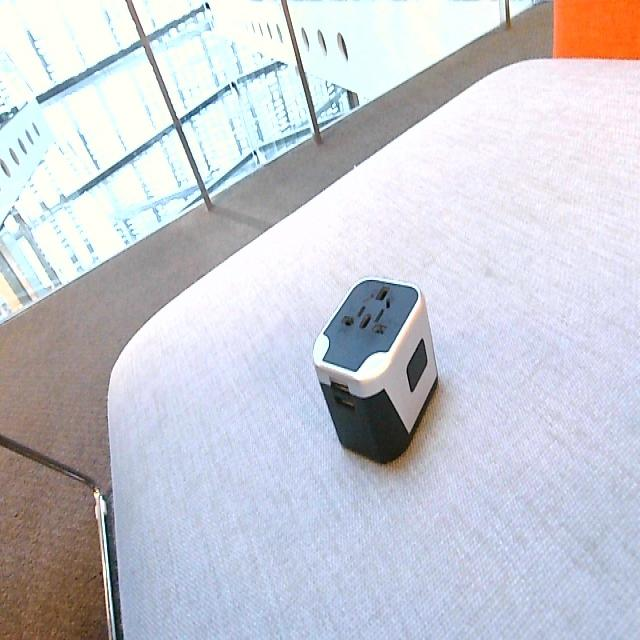adapter: (311, 275, 439, 464)
